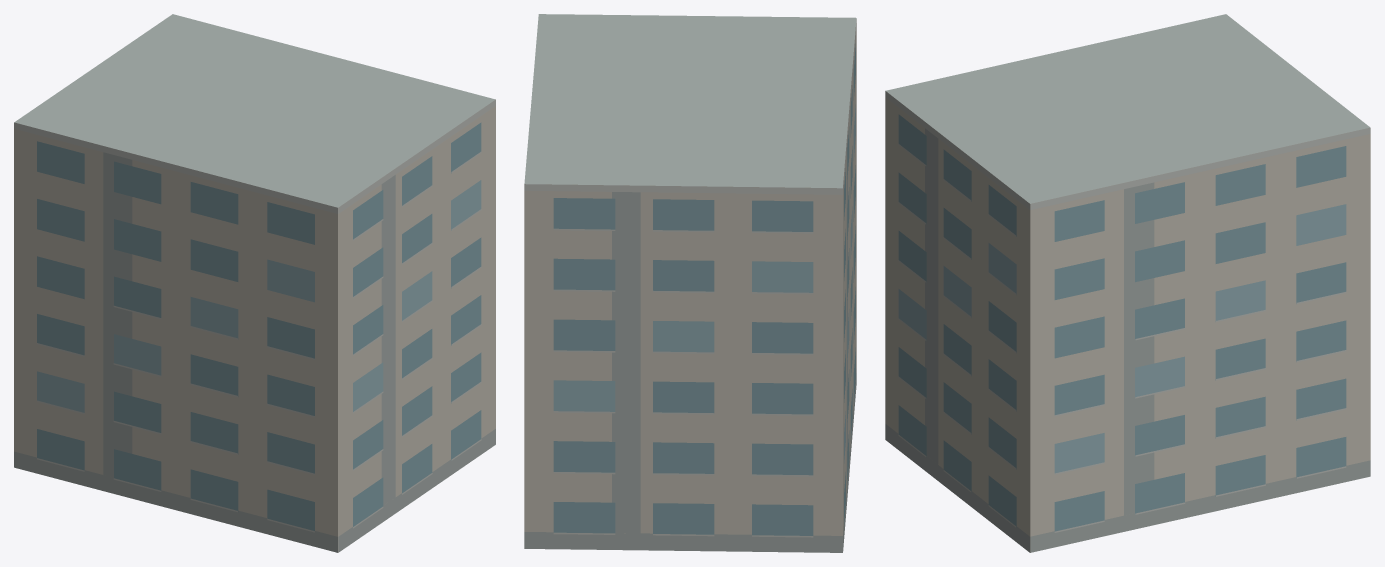
File: survey-upis-32883458.glb
The picture shows the model from 3 angles, left to right: view 1: azimuth 30°, elevation 25°; view 2: azimuth 150°, elevation 25°; view 3: azimuth 270°, elevation 25°; orthographic projection. The views are drawn at different scales.
Visible parts, largest first — view 1: survey-upis-32883458.tmp; view 2: survey-upis-32883458.tmp; view 3: survey-upis-32883458.tmp.
Part boxes in pixels (box(x1,y1,x2,y2)): survey-upis-32883458.tmp: box(14, 14, 495, 552); survey-upis-32883458.tmp: box(524, 14, 856, 552); survey-upis-32883458.tmp: box(885, 14, 1370, 552).
Size of the model in its own units: 15.59 by 13.35 by 16.83.
